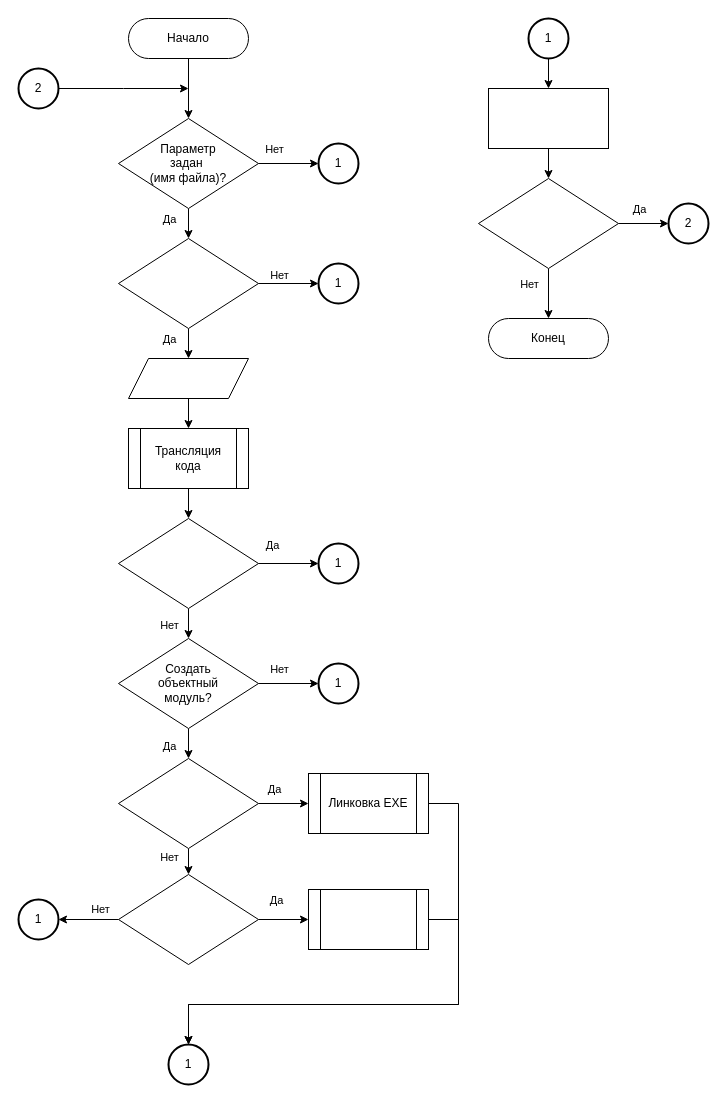
Image size: 726x1102. Some labels were removed from this diagram. Each missing label, with the centre of its shape:
Вывод информации: (x=188, y=378)
Линковка COM: (x=368, y=919)
Ошибка трансляции: (x=188, y=563)
Параметр задан?: (x=548, y=223)
Переход к следующему параметру: (x=548, y=118)
Создать COM?: (x=188, y=919)
Создать EXE?: (x=188, y=803)
Файл существует?: (x=188, y=283)
